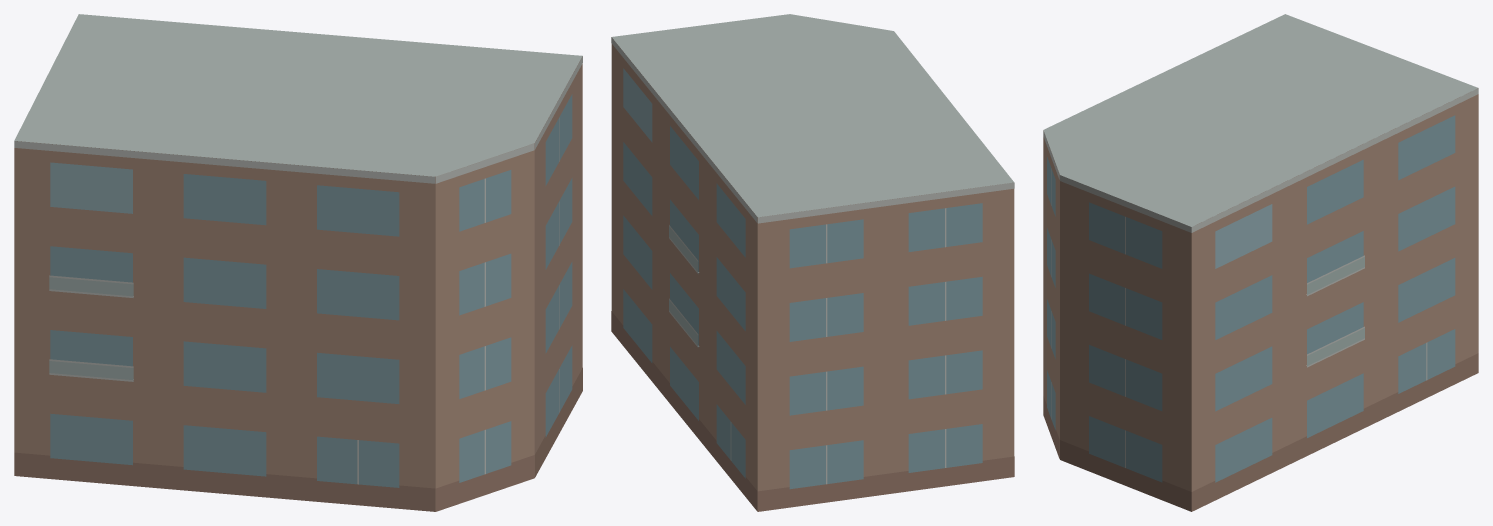
The model's file is survey-upis-32526261.glb.
3 renders of one model, left to right at view 1: azimuth 30°, elevation 25°; view 2: azimuth 150°, elevation 25°; view 3: azimuth 270°, elevation 25°, orthographic. The views are drawn at different scales.
Visible parts, largest first — view 1: survey-upis-32526261.tmp; view 2: survey-upis-32526261.tmp; view 3: survey-upis-32526261.tmp.
Boxes of the visible parts, x1=… form: survey-upis-32526261.tmp: x1=14, y1=14, x2=582, y2=511; survey-upis-32526261.tmp: x1=611, y1=14, x2=1014, y2=511; survey-upis-32526261.tmp: x1=1043, y1=14, x2=1478, y2=511.
Size of the model in its own units: 18.61 by 11.6 by 16.08.
